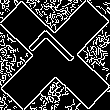L_SE: (26, 26, 84, 84)
